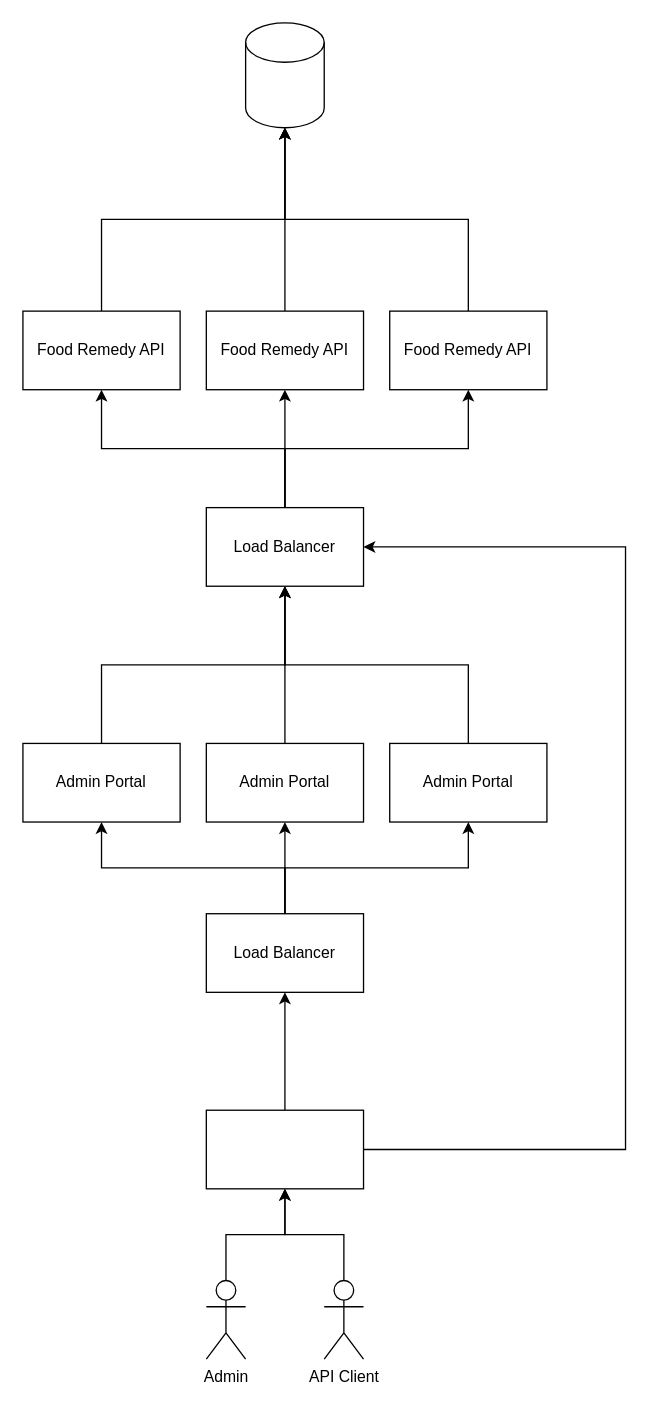
This 659x1410 diagram has some shape labels left out. Each missing label, with the centre of its shape:
DB: point 284,75
K8s Ingress: point 284,1149
